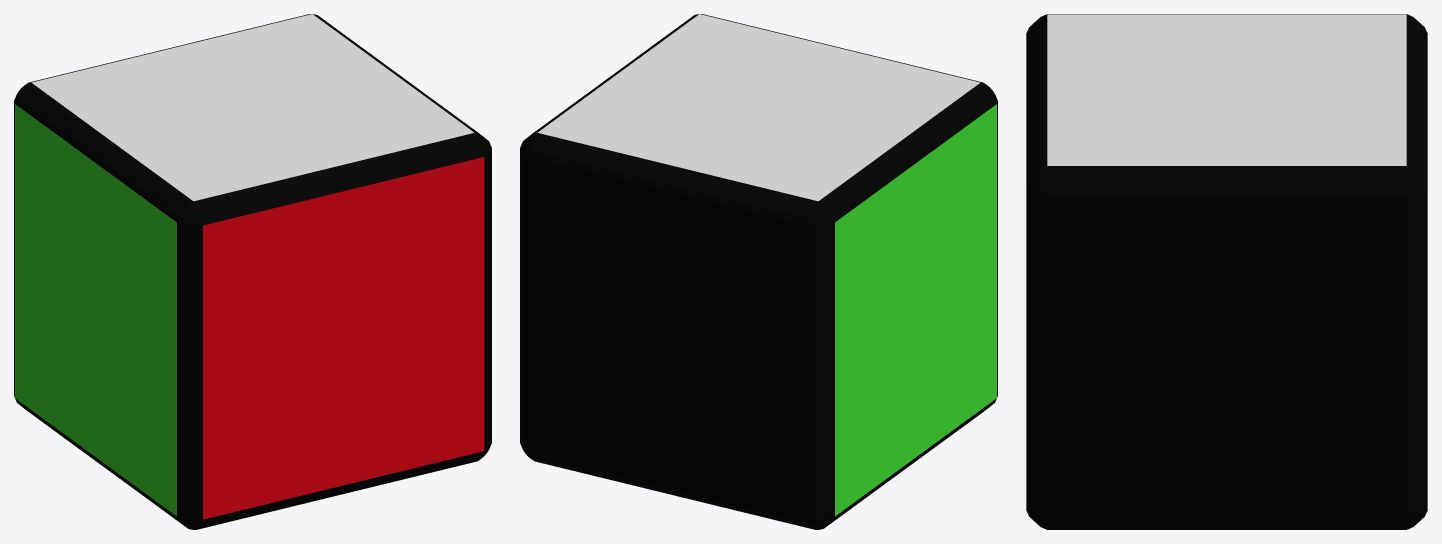
File: GRW.glb
3 renders of one model, left to right at view 1: azimuth 30°, elevation 25°; view 2: azimuth 150°, elevation 25°; view 3: azimuth 270°, elevation 25°, orthographic. The views are drawn at different scales.
Visible parts, largest first — view 1: Cube; view 2: Cube; view 3: Cube.
Boxes of the visible parts, bbox=[...] form: Cube: bbox=[14, 14, 491, 529]; Cube: bbox=[520, 14, 997, 529]; Cube: bbox=[1026, 14, 1427, 529].
Size of the model in its own units: 2 by 2 by 2.
